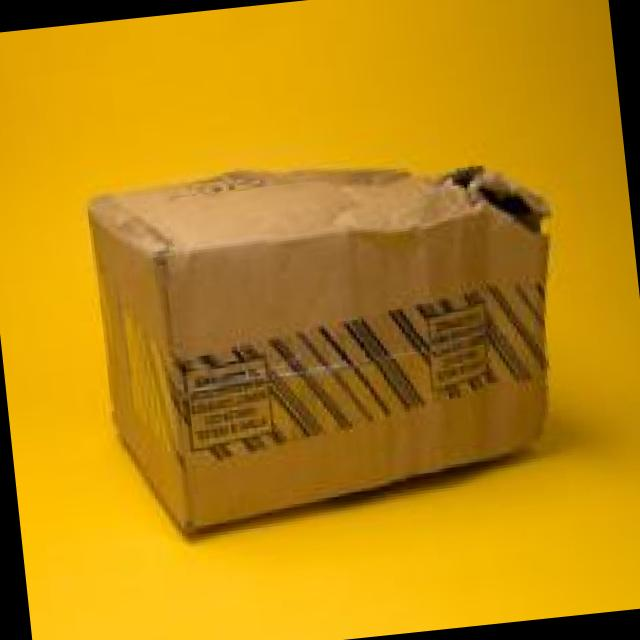box: (81, 163, 551, 535)
crushed: (465, 242, 508, 474), (331, 178, 436, 246)
opened: (440, 164, 553, 236)
